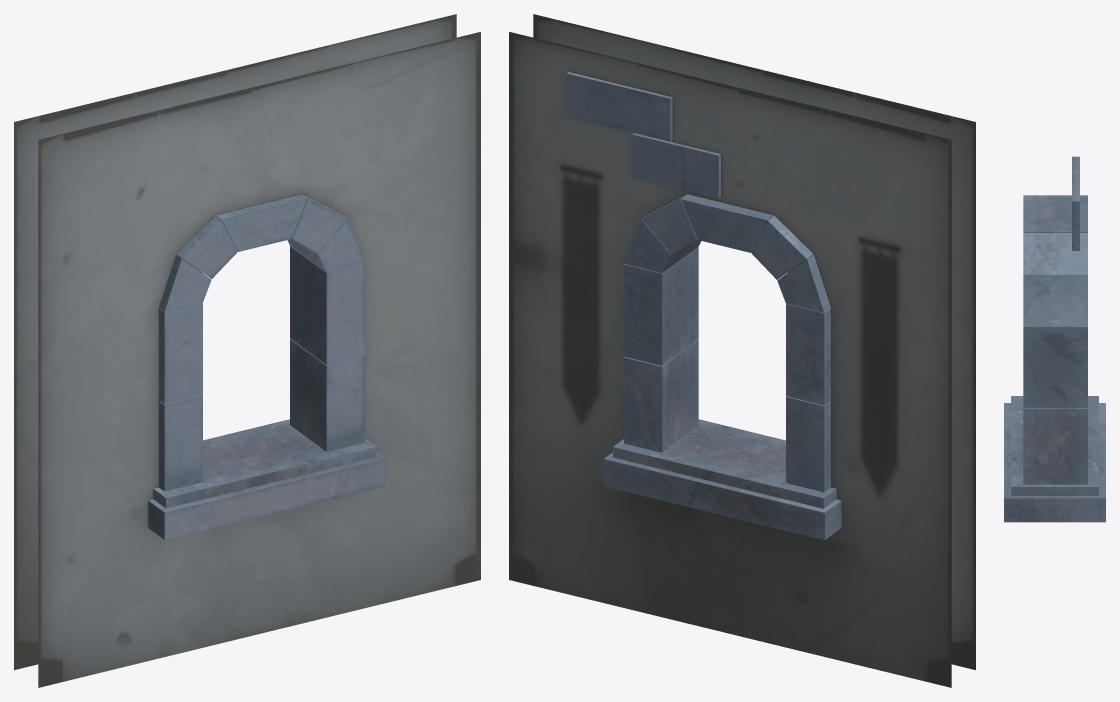
File: room_wall_window.gltf
3 renders of one model, left to right at view 1: azimuth 30°, elevation 25°; view 2: azimuth 150°, elevation 25°; view 3: azimuth 270°, elevation 25°, orthographic. The views are drawn at different scales.
Parts seen in each view (by area): view 1: room_wall_window; view 2: room_wall_window; view 3: room_wall_window.
Part boxes in pixels (left/top/right/bottom): room_wall_window: left=14, top=14, right=480, bottom=687; room_wall_window: left=509, top=14, right=975, bottom=687; room_wall_window: left=1004, top=156, right=1105, bottom=522.
Size of the model in its own units: 16.94 by 20.04 by 3.82.
Materials: 2 (2 with a texture image).
